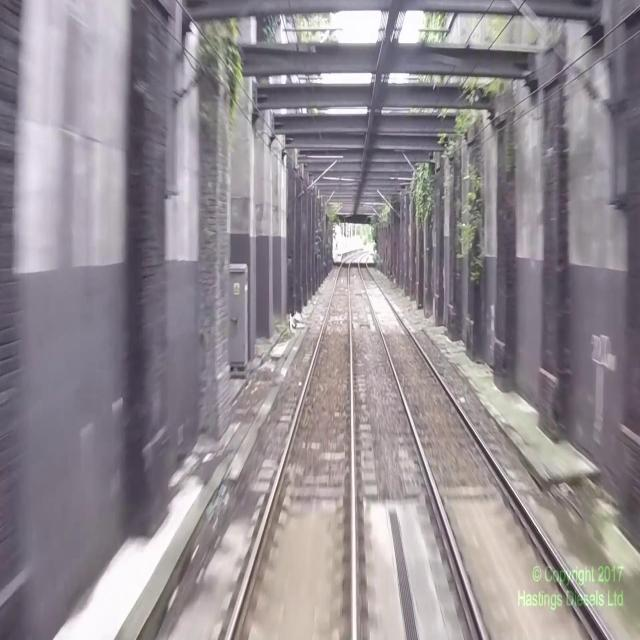rail-track: (359, 254, 607, 639), (230, 254, 356, 639)
